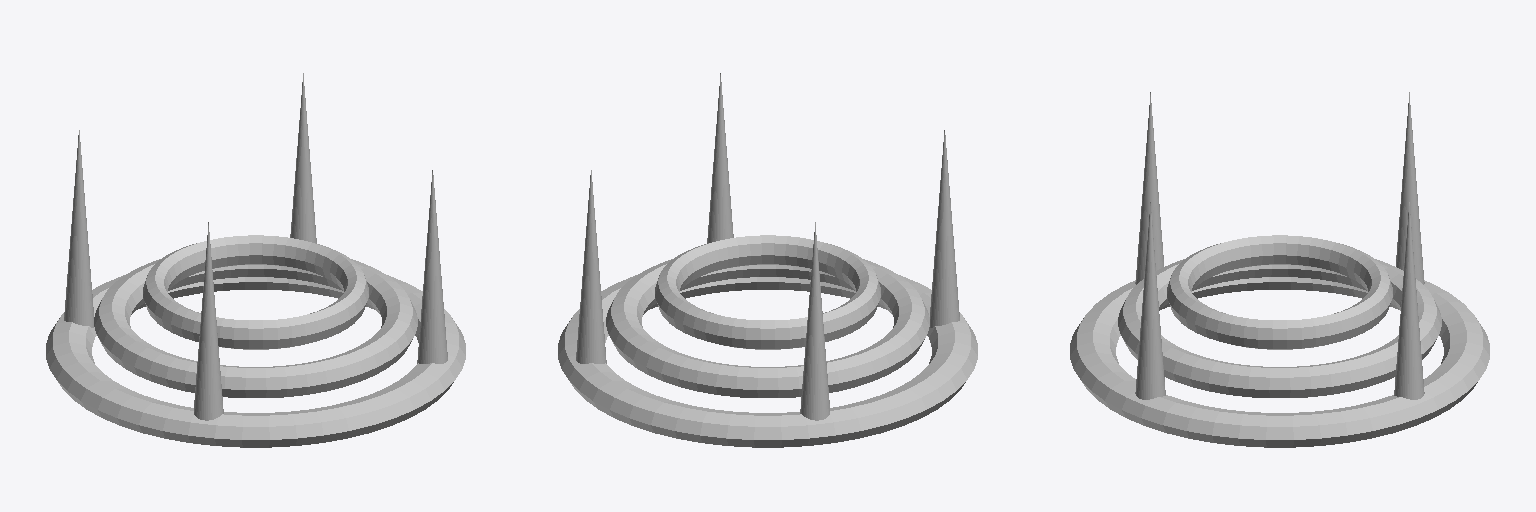
Rendered from Enter.obj.
3 views of the same model, side by side, from view 1: azimuth 30°, elevation 25°; view 2: azimuth 150°, elevation 25°; view 3: azimuth 270°, elevation 25° (orthographic).
Parts seen in each view (by area): view 1: torus, cone; view 2: torus, cone; view 3: torus, cone.
Boxes of the visible parts, x1,y1,x2,y2 form: torus: [46, 235, 465, 447]; cone: [64, 73, 447, 420]; torus: [558, 235, 977, 447]; cone: [576, 73, 959, 420]; torus: [1070, 235, 1489, 447]; cone: [1135, 92, 1424, 399].
Size of the model in its own units: 1.62 by 0.9376 by 1.62.